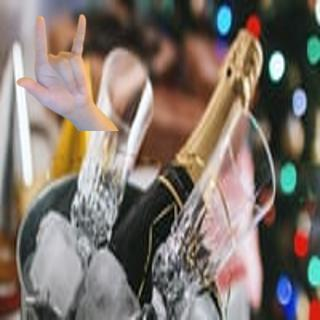ILY: (13, 9, 101, 118)
